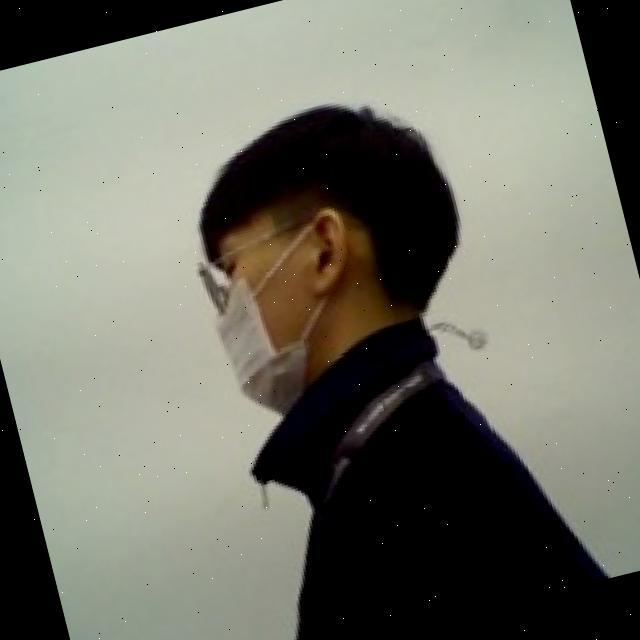mask: (184, 205, 393, 424)
no_gloves: (168, 71, 486, 372)
